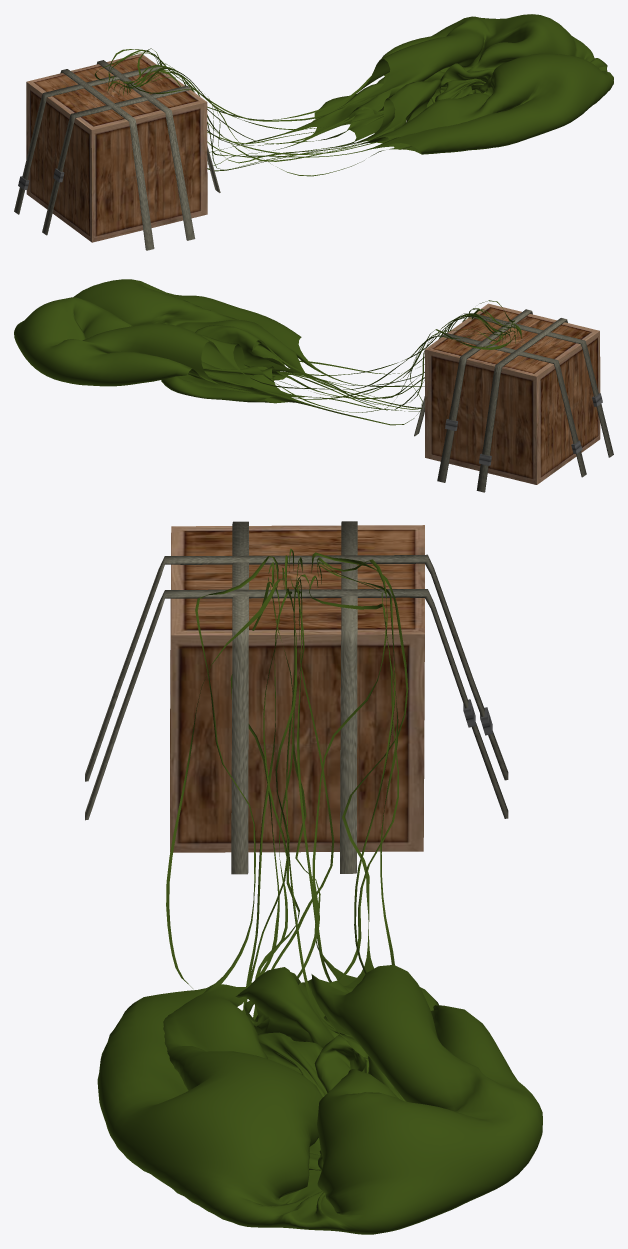
The model's file is airdrop_with_parachute.fbx.
The picture shows the model from 3 angles, top to bottom: view 1: azimuth 30°, elevation 25°; view 2: azimuth 150°, elevation 25°; view 3: azimuth 270°, elevation 25°; orthographic projection. The views are drawn at different scales.
Visible parts, largest first — view 1: parachute, Cube.019_Cube.023; view 2: parachute, Cube.019_Cube.023; view 3: parachute, Cube.019_Cube.023.
Part boxes in pixels (x1,y1,x2,y2): parachute: (94,14,613,176); Cube.019_Cube.023: (14,53,220,250); parachute: (14,279,521,425); Cube.019_Cube.023: (414,303,613,492); parachute: (97,549,542,1234); Cube.019_Cube.023: (85,521,508,874).
Bounding box in the file's own units: 304 × 66.39 × 107.
